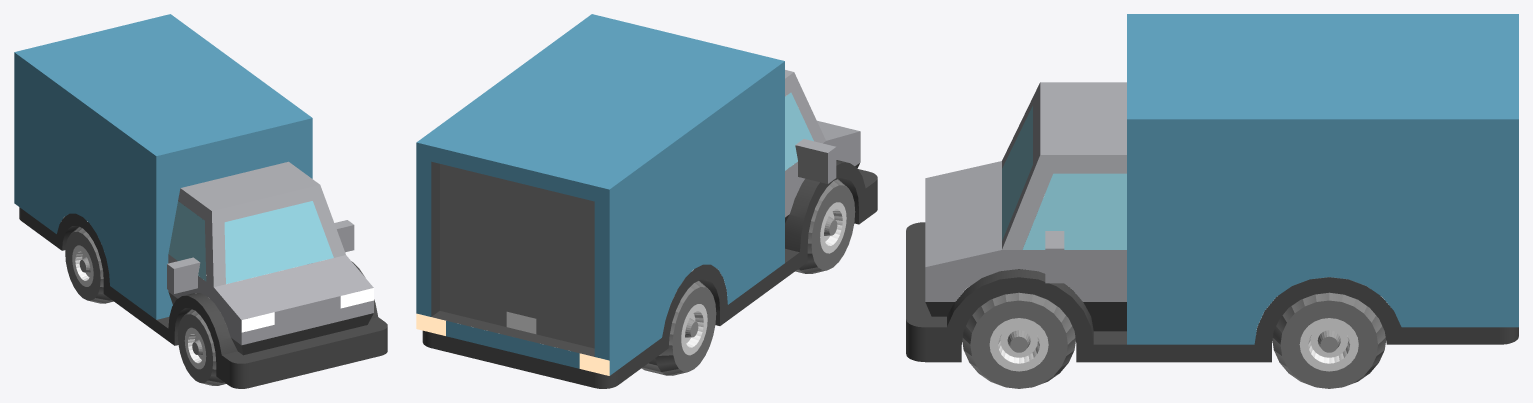
File: car-4.gltf
3 views of the same model, side by side, from view 1: azimuth 30°, elevation 25°; view 2: azimuth 150°, elevation 25°; view 3: azimuth 270°, elevation 25° (orthographic). The views are drawn at different scales.
Parts seen in each view (by area): view 1: Mesh_body009_1, Mesh_body009_3, Mesh_body009_2, Mesh_body009_6, Mesh_wheel_frontLeft040, Mesh_wheel_frontLeft005, Mesh_body009_5, Mesh_wheel_frontLeft040_1, Mesh_wheel_frontLeft005_1; view 2: Mesh_body009_1, Mesh_door, Mesh_body009_2, Mesh_body009_3, Mesh_wheel_frontLeft040, Mesh_wheel_frontLeft005, Mesh_body009_6, Mesh_body009, Mesh_body009_4, Mesh_wheel_frontLeft040_1, Mesh_wheel_frontLeft005_1, Mesh_door_1; view 3: Mesh_body009_1, Mesh_body009_3, Mesh_body009_2, Mesh_body009_6, Mesh_wheel_frontLeft039, Mesh_wheel_frontLeft041, Mesh_wheel_frontLeft039_1, Mesh_wheel_frontLeft041_1.
Part boxes in pixels (x1,y1,x2,y2): Mesh_body009_1: [14, 14, 312, 319]; Mesh_body009_3: [167, 161, 373, 345]; Mesh_body009_2: [19, 207, 387, 388]; Mesh_body009_6: [168, 201, 333, 283]; Mesh_wheel_frontLeft040: [65, 226, 113, 303]; Mesh_wheel_frontLeft005: [177, 309, 225, 385]; Mesh_body009_5: [241, 288, 373, 332]; Mesh_wheel_frontLeft040_1: [72, 245, 93, 286]; Mesh_wheel_frontLeft005_1: [184, 327, 206, 369]; Mesh_body009_1: [416, 14, 784, 375]; Mesh_door: [440, 164, 594, 348]; Mesh_body009_2: [422, 160, 877, 388]; Mesh_body009_3: [785, 70, 860, 217]; Mesh_wheel_frontLeft040: [641, 281, 716, 375]; Mesh_wheel_frontLeft005: [795, 179, 855, 273]; Mesh_body009_6: [785, 92, 813, 170]; Mesh_body009: [416, 313, 609, 375]; Mesh_body009_4: [795, 145, 827, 183]; Mesh_wheel_frontLeft040_1: [681, 304, 707, 355]; Mesh_wheel_frontLeft005_1: [820, 202, 846, 253]; Mesh_door_1: [506, 311, 536, 333]; Mesh_body009_1: [1127, 14, 1518, 344]; Mesh_body009_3: [925, 82, 1126, 301]; Mesh_body009_2: [906, 222, 1518, 362]; Mesh_body009_6: [1002, 106, 1126, 249]; Mesh_wheel_frontLeft039: [1272, 277, 1385, 388]; Mesh_wheel_frontLeft041: [962, 292, 1075, 388]; Mesh_wheel_frontLeft039_1: [1299, 318, 1358, 371]; Mesh_wheel_frontLeft041_1: [989, 318, 1048, 371].
Size of the model in its own units: 1.5 by 1.6 by 3.2.
